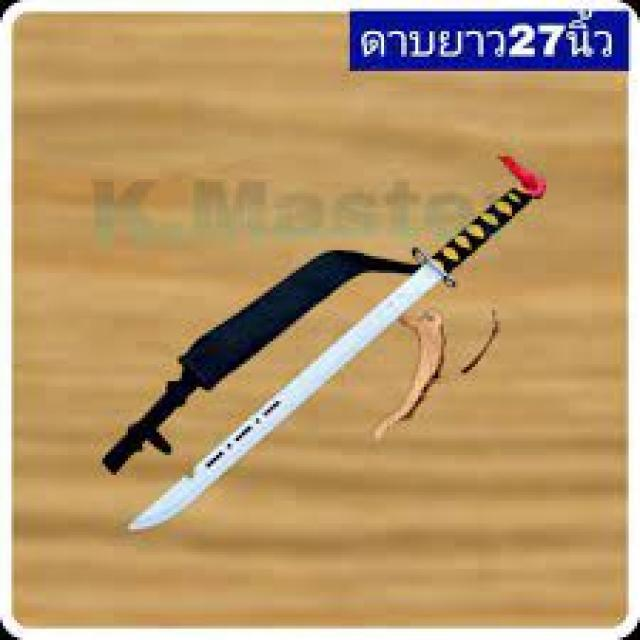long sword: (128, 177, 544, 529)
